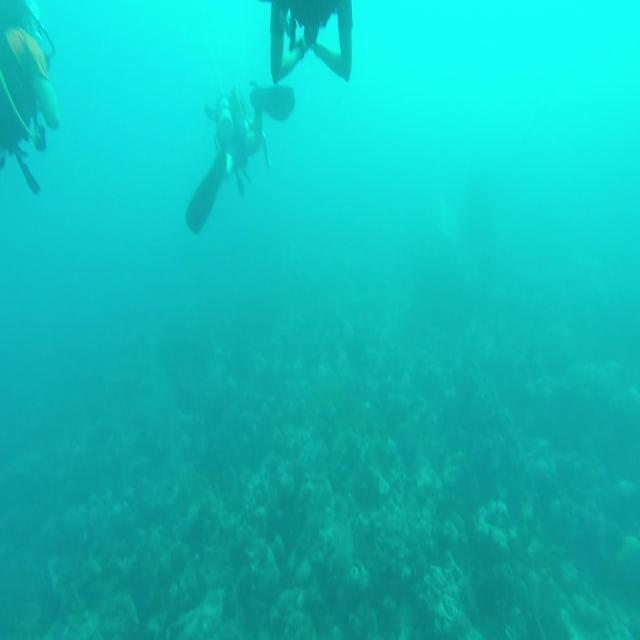human: (185, 78, 295, 235), (0, 0, 60, 195), (259, 0, 353, 85)
